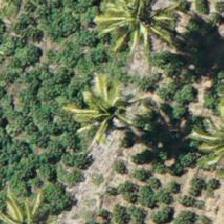coconut_tree: (60, 61, 150, 151), (94, 0, 184, 61)
